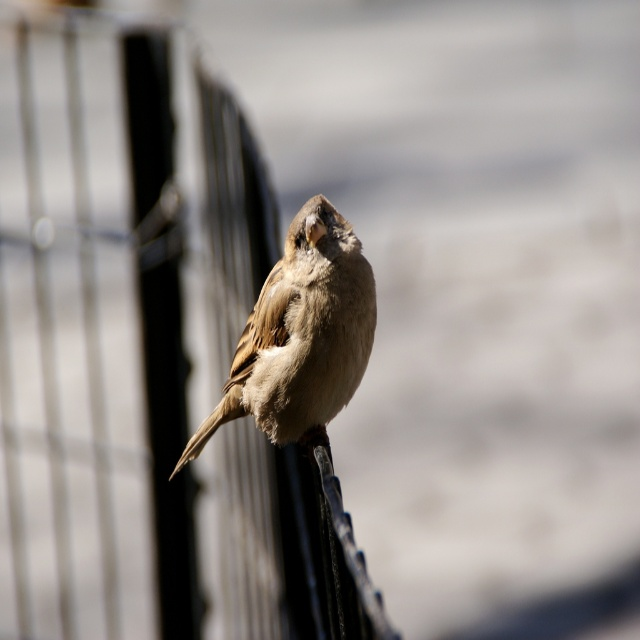Sparrow: (168, 193, 378, 475)
